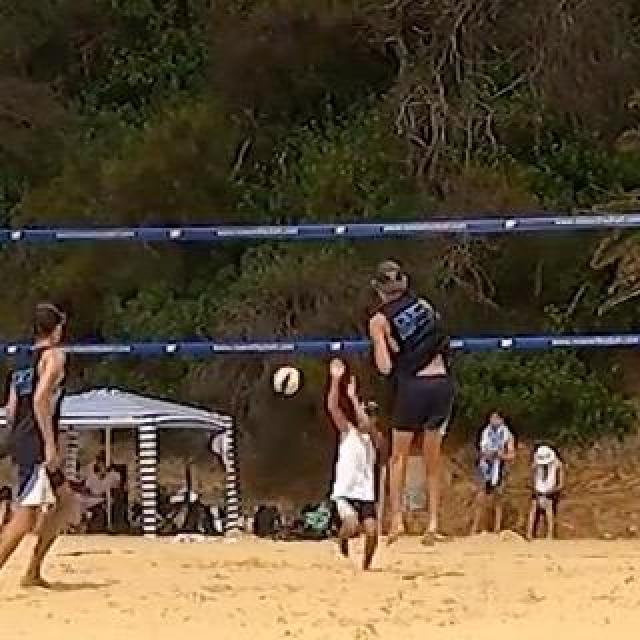volleyball: (274, 368, 302, 396)
